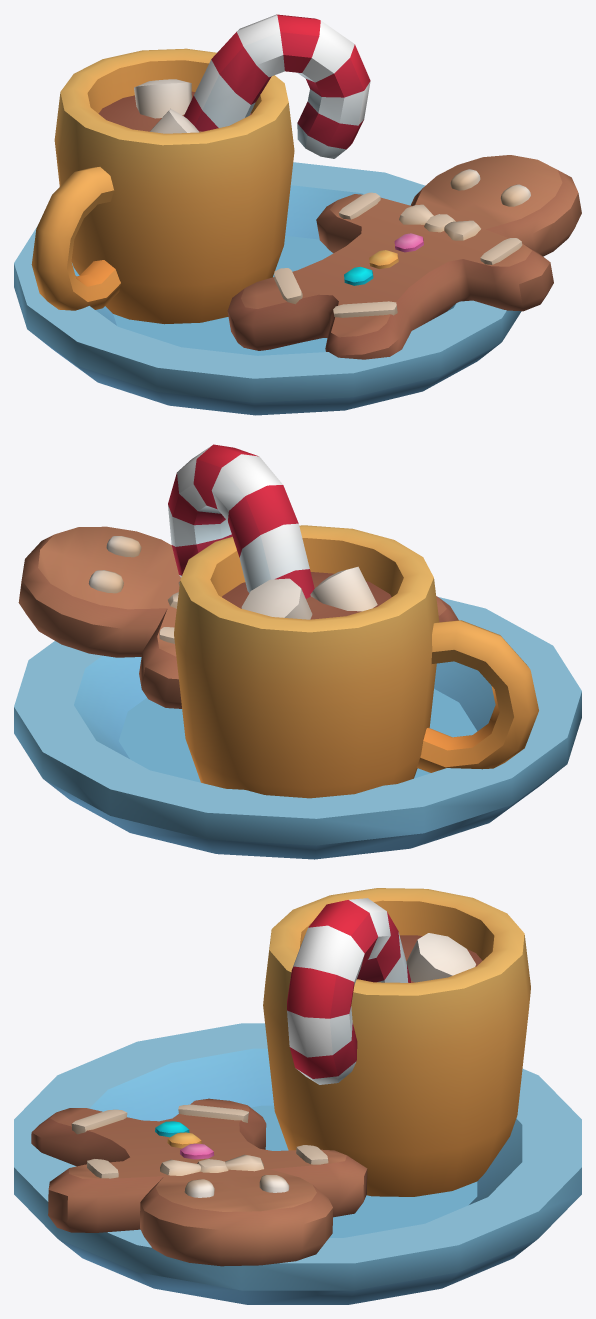
The model's file is plate_decorated_A.glb.
3 views of the same model, one above another, from view 1: azimuth 30°, elevation 25°; view 2: azimuth 150°, elevation 25°; view 3: azimuth 270°, elevation 25° (orthographic). The views are drawn at different scales.
Parts seen in each view (by area): view 1: plate_decorated_A; view 2: plate_decorated_A; view 3: plate_decorated_A.
Boxes of the visible parts, box(x1,y1,x2,y2) form: plate_decorated_A: box(14, 14, 581, 415); plate_decorated_A: box(14, 444, 581, 859); plate_decorated_A: box(14, 888, 581, 1304).
Bounding box in the file's own units: 1.07 × 0.5789 × 0.95.
1 material, 1 textured.
